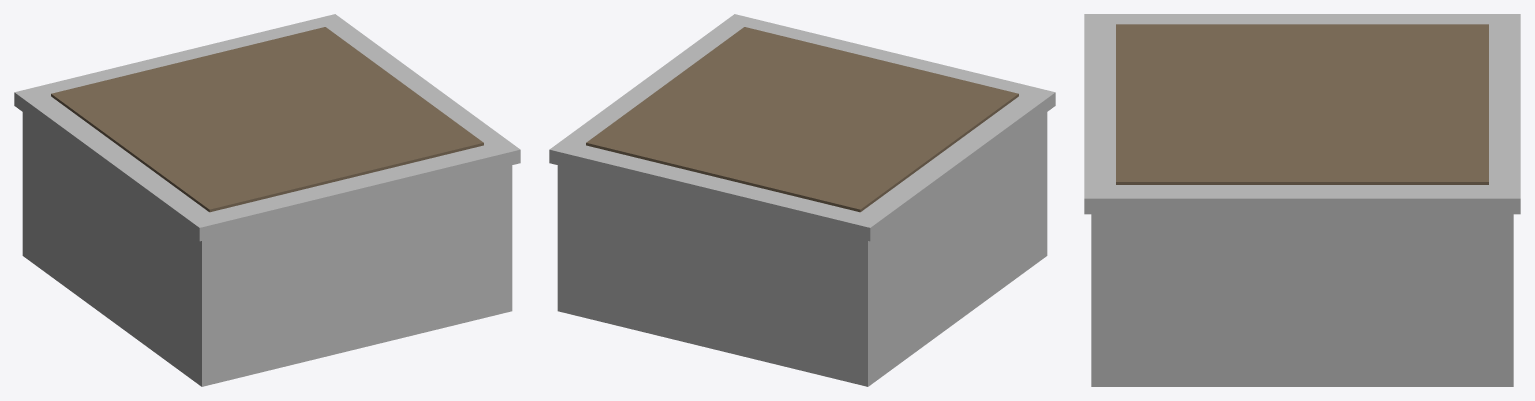
The model's file is planter_square.glb.
3 renders of one model, left to right at view 1: azimuth 30°, elevation 25°; view 2: azimuth 150°, elevation 25°; view 3: azimuth 270°, elevation 25°, orthographic. The views are drawn at different scales.
Parts seen in each view (by area): view 1: planter_square; view 2: planter_square; view 3: planter_square.
Boxes of the visible parts, x1,y1,x2,y2 form: planter_square: (14, 14, 520, 386); planter_square: (549, 14, 1055, 386); planter_square: (1084, 14, 1520, 386).
Bounding box in the file's own units: 1.24 × 0.61 × 1.24.
